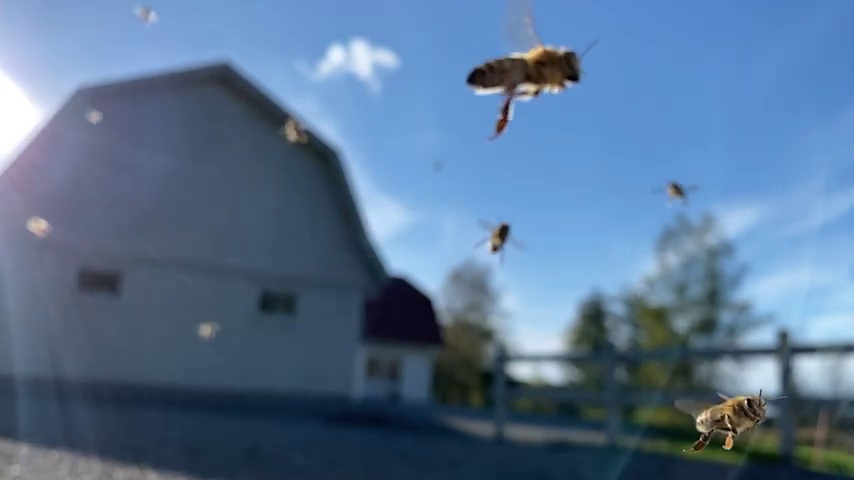insect: (463, 0, 603, 141), (672, 385, 785, 457), (471, 218, 523, 259), (655, 180, 698, 210)
